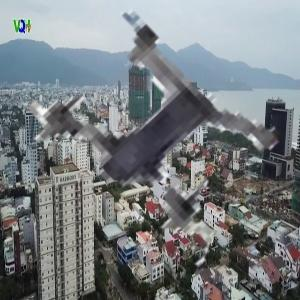drone: (6, 1, 295, 290)
